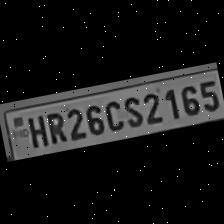1: (159, 85, 182, 122)
2: (139, 88, 165, 127), (62, 104, 86, 142)
5: (195, 76, 222, 114)
6: (81, 100, 105, 138), (176, 81, 200, 118)
C: (100, 96, 124, 134)
H: (24, 113, 48, 150)
R: (42, 108, 68, 146)
S: (119, 92, 143, 130)
